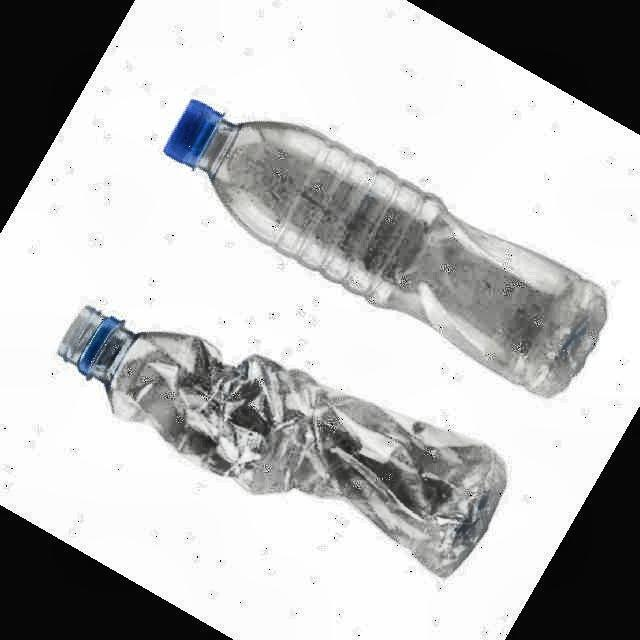plastic: (164, 102, 606, 396), (59, 308, 506, 576)
